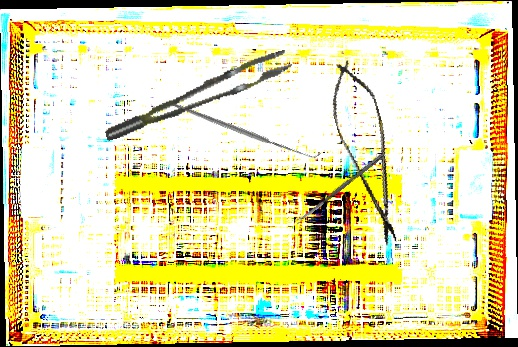Hook Surgical: (171, 50, 322, 208)
Micro Scissor: (319, 53, 416, 252)
Surgical Spoon: (294, 152, 385, 225)
Tissue Forceps: (96, 48, 299, 142)
